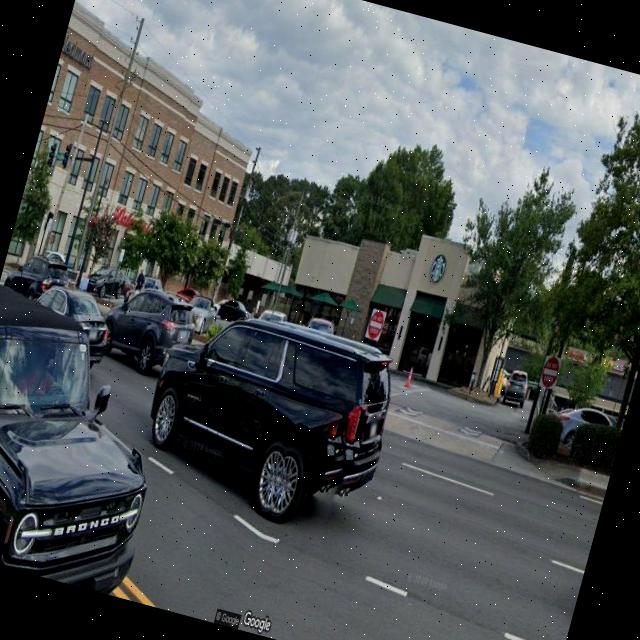seating: (62, 268, 78, 289)
trash_can: (85, 276, 97, 294)
